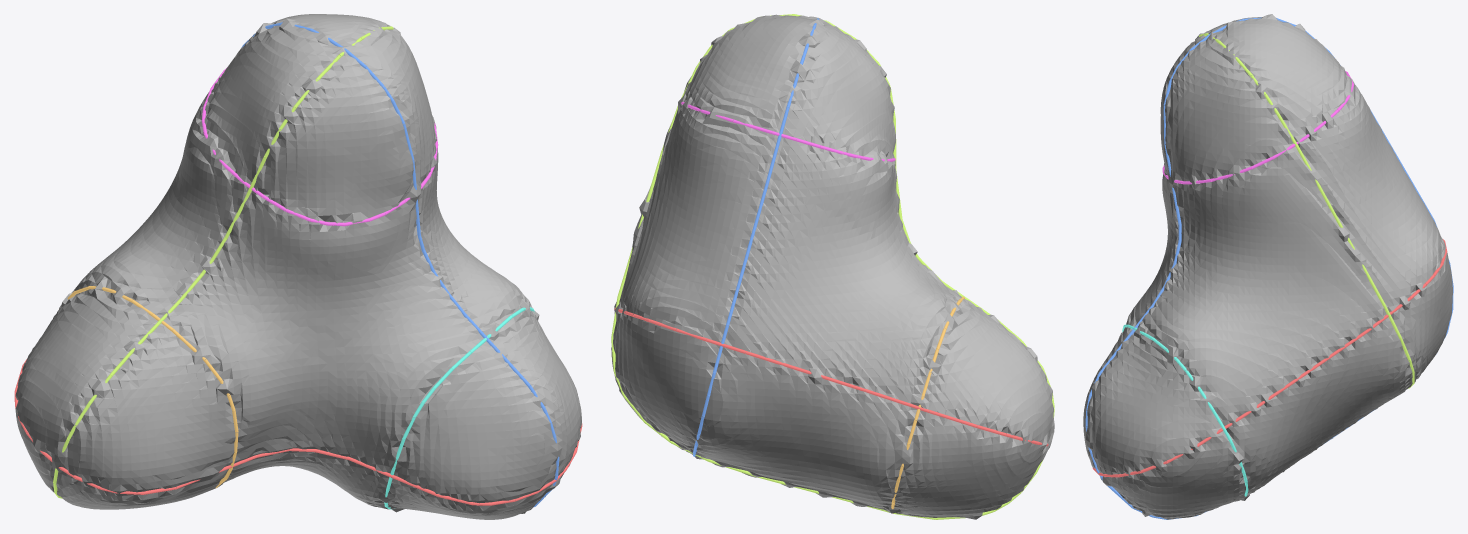
File: flowrep_trebol.gltf
3 views of the same model, side by side, from view 1: azimuth 30°, elevation 25°; view 2: azimuth 150°, elevation 25°; view 3: azimuth 270°, elevation 25° (orthographic). The views are drawn at different scales.
Bounding box in the file's own units: 0.6377 × 0.6206 × 0.476.
